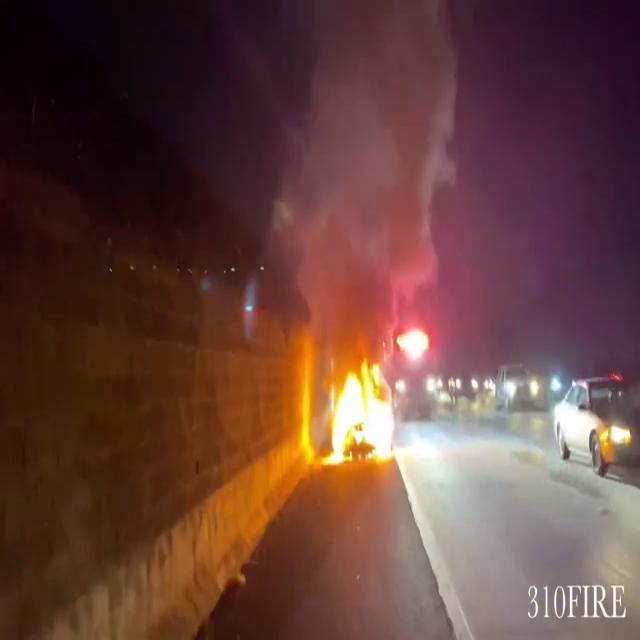Fire: (304, 351, 402, 468)
Smoke: (258, 0, 468, 337)
